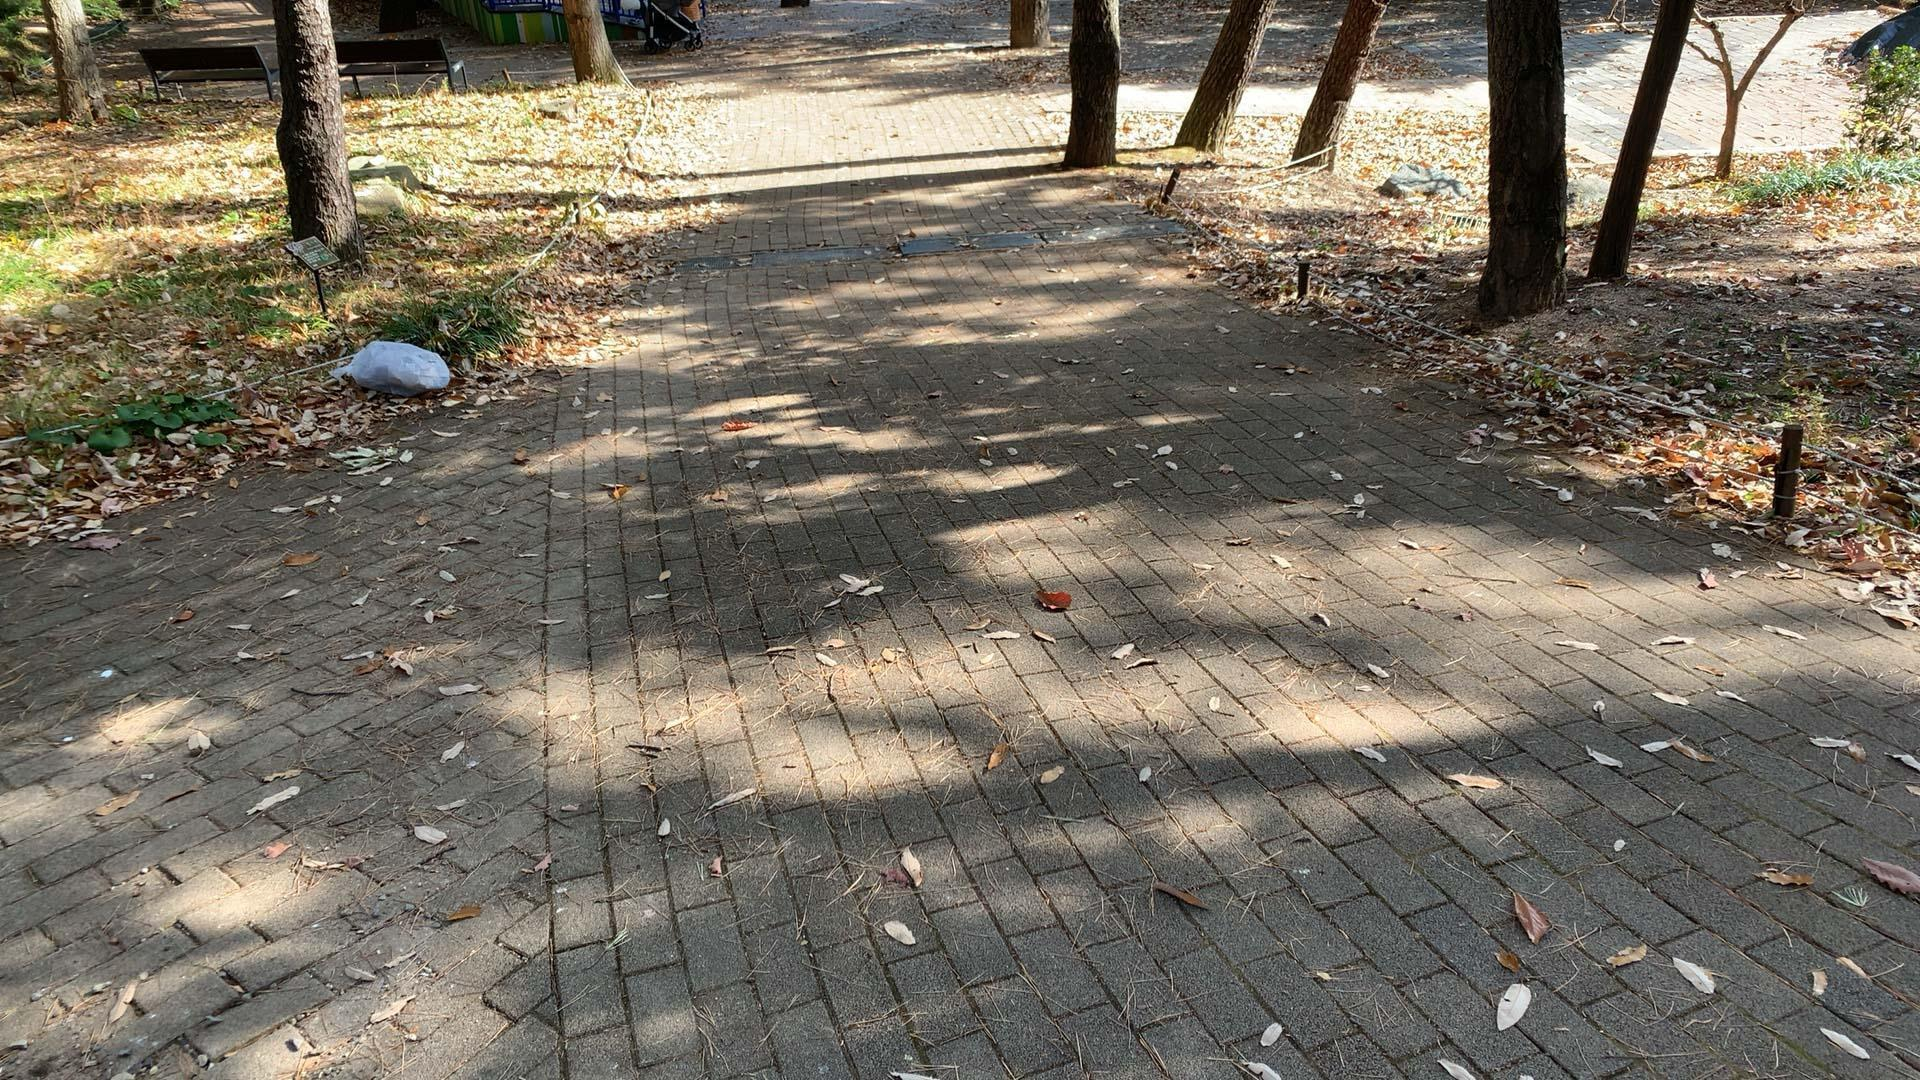white_bag: (330, 338, 458, 397)
